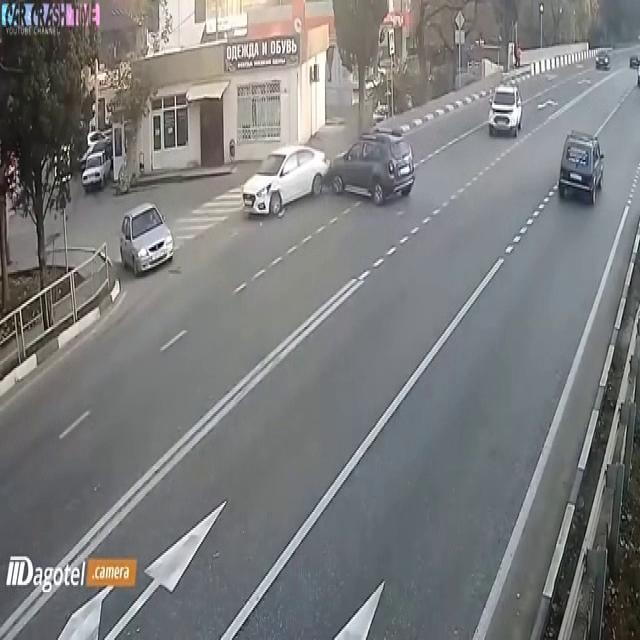accident: (243, 124, 401, 213)
